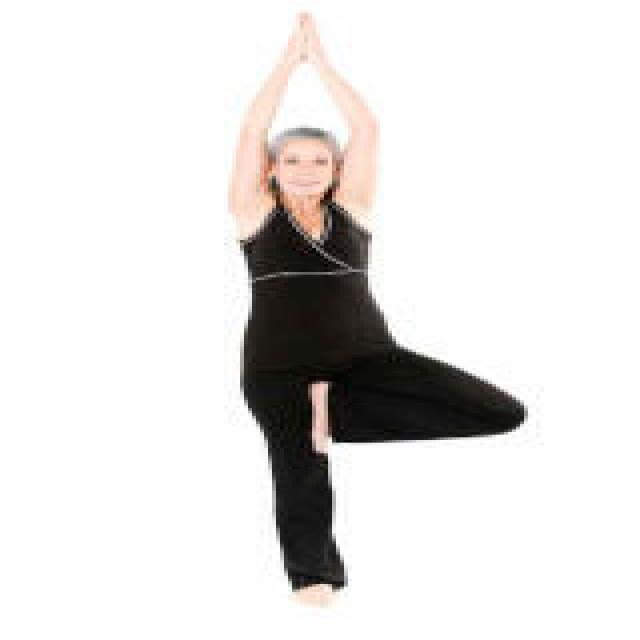yoga-pose tree: (221, 5, 535, 597)
